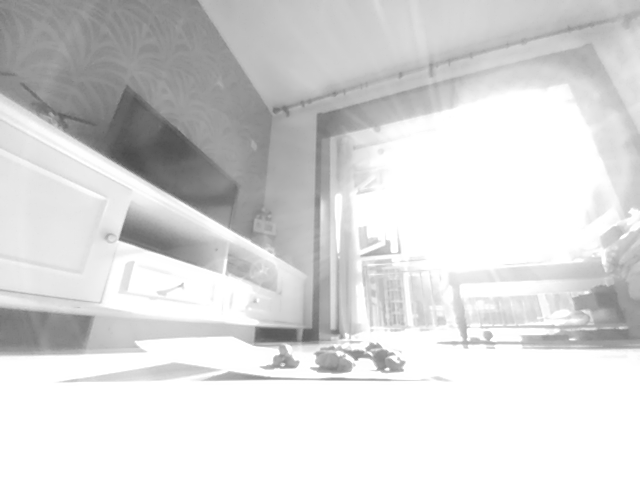curtain: (331, 128, 361, 340)
pet feces: (313, 346, 355, 374), (370, 341, 406, 372), (269, 342, 300, 369), (337, 345, 371, 363)
